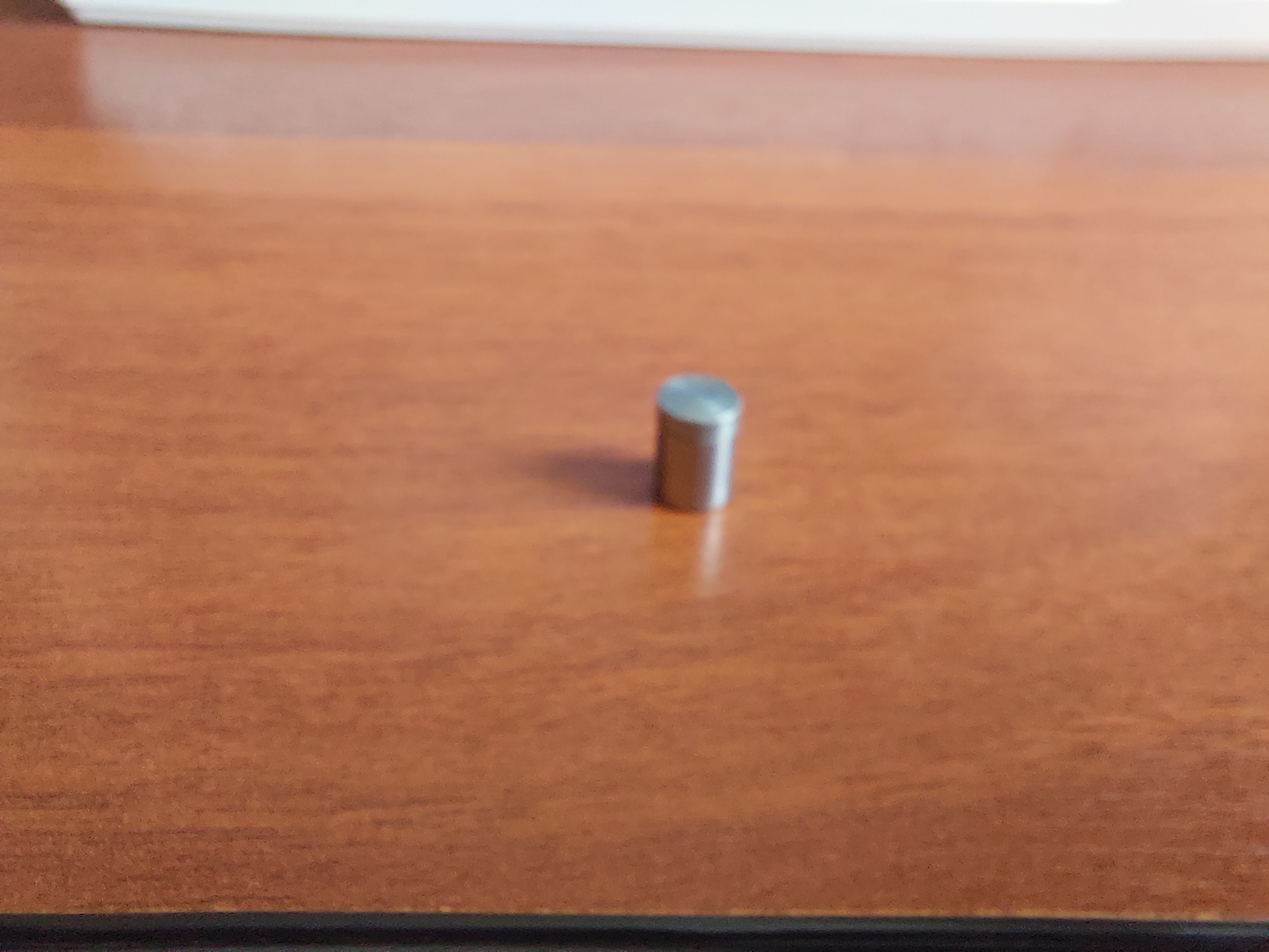tablet: (650, 370, 749, 515)
